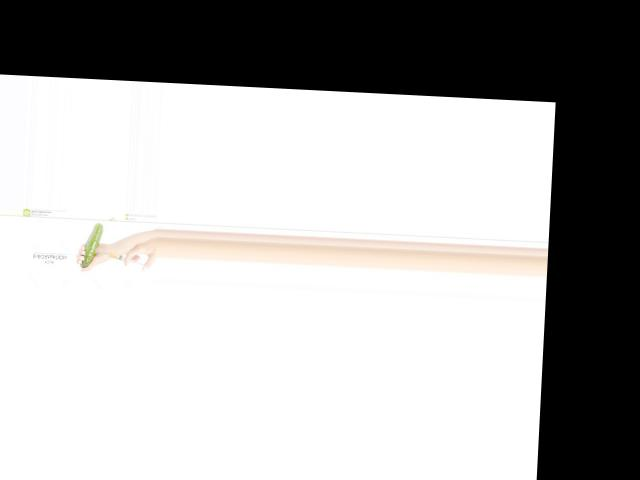cucumber: (80, 221, 104, 268)
